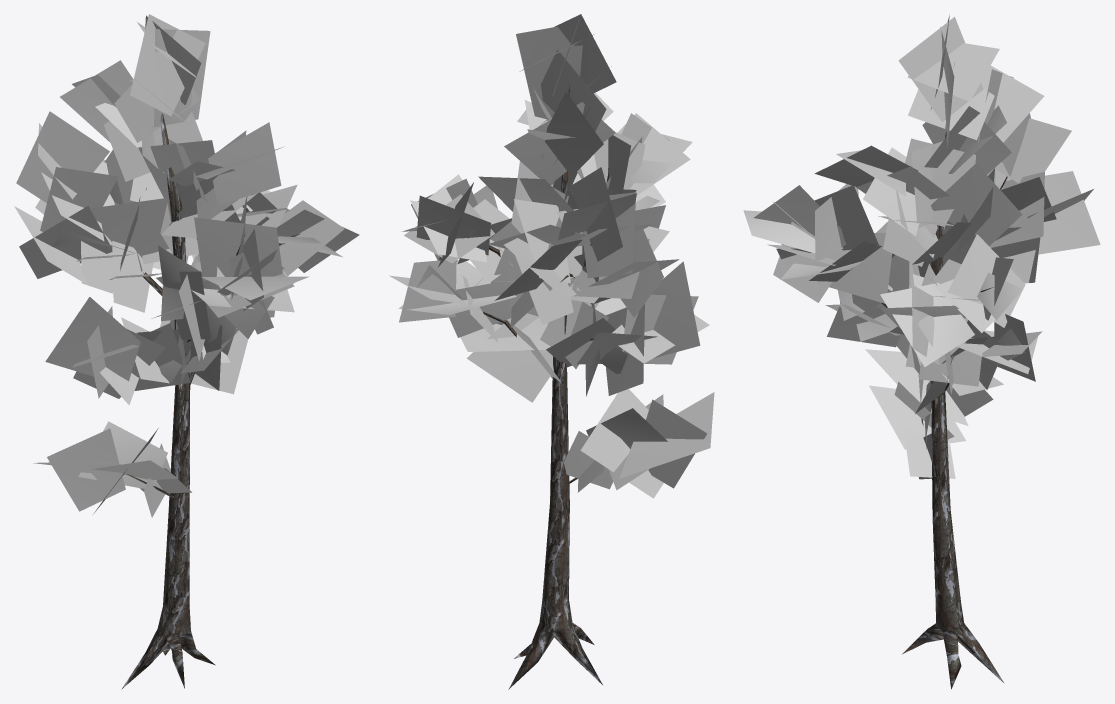
File: Birch_02.fbx
3 views of the same model, side by side, from view 1: azimuth 30°, elevation 25°; view 2: azimuth 150°, elevation 25°; view 3: azimuth 270°, elevation 25° (orthographic). The views are drawn at different scales.
Parts seen in each view (by area): view 1: birch_02.001; view 2: birch_02.001; view 3: birch_02.001.
Part boxes in pixels (bbox=[...]): birch_02.001: bbox=[14, 14, 359, 689]; birch_02.001: bbox=[389, 14, 714, 689]; birch_02.001: bbox=[743, 14, 1100, 689].
Bounding box in the file's own units: 10.78 × 21.99 × 10.97.
